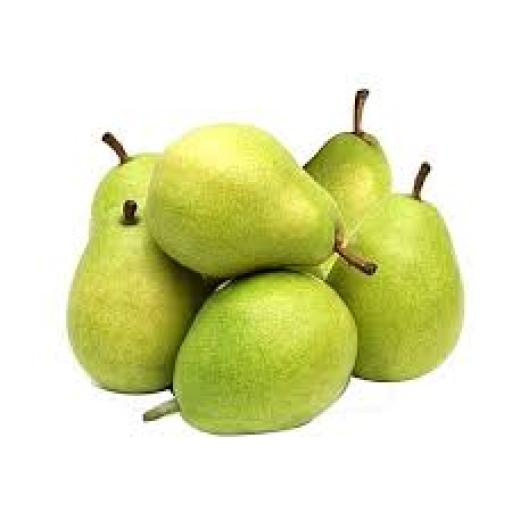Pear: (146, 123, 375, 277), (146, 271, 357, 434), (328, 164, 464, 380), (69, 201, 204, 393), (305, 89, 391, 234), (92, 132, 159, 227)
